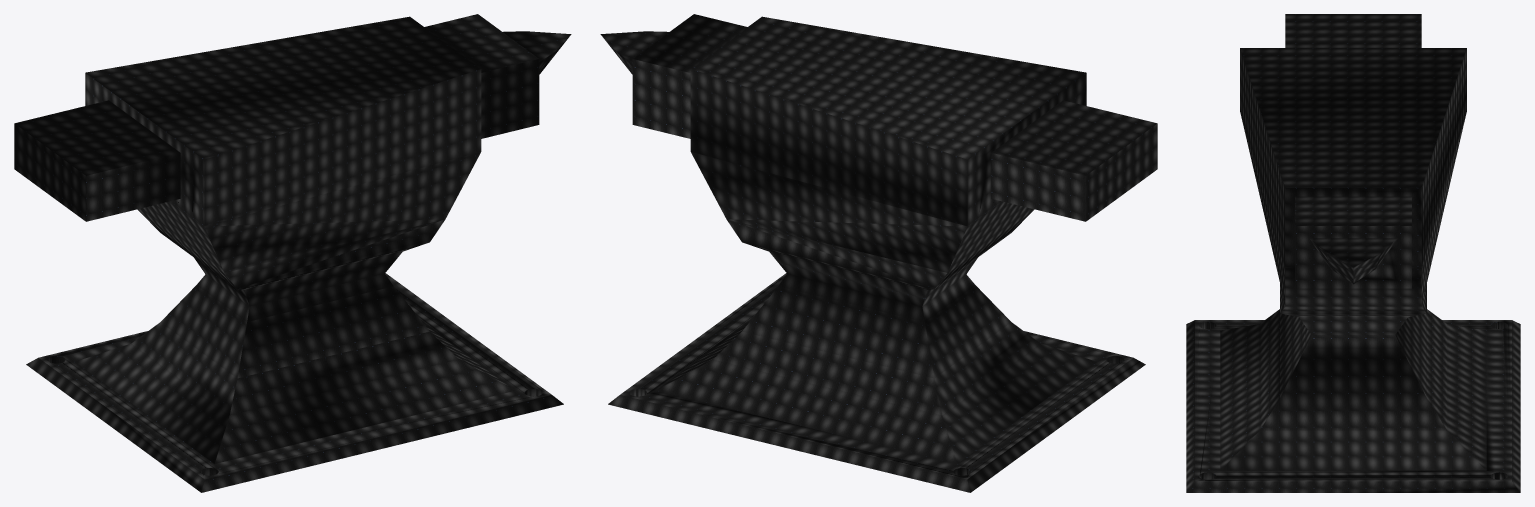
Rendered from mini_anvil.fbx.
3 views of the same model, side by side, from view 1: azimuth 30°, elevation 25°; view 2: azimuth 150°, elevation 25°; view 3: azimuth 270°, elevation 25° (orthographic). The views are drawn at different scales.
Visible parts, largest first — view 1: Heavy_Duty_Anvil1; view 2: Heavy_Duty_Anvil1; view 3: Heavy_Duty_Anvil1.
Boxes of the visible parts, <box> form: Heavy_Duty_Anvil1: <box>14,14,571,492</box>; Heavy_Duty_Anvil1: <box>600,14,1157,492</box>; Heavy_Duty_Anvil1: <box>1186,14,1520,492</box>.
Size of the model in its own units: 33.12 by 18.52 by 19.31.
1 material, 1 textured.
